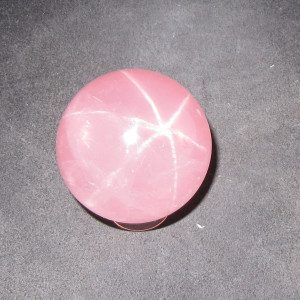Rose_Quartz: (54, 66, 214, 234)
